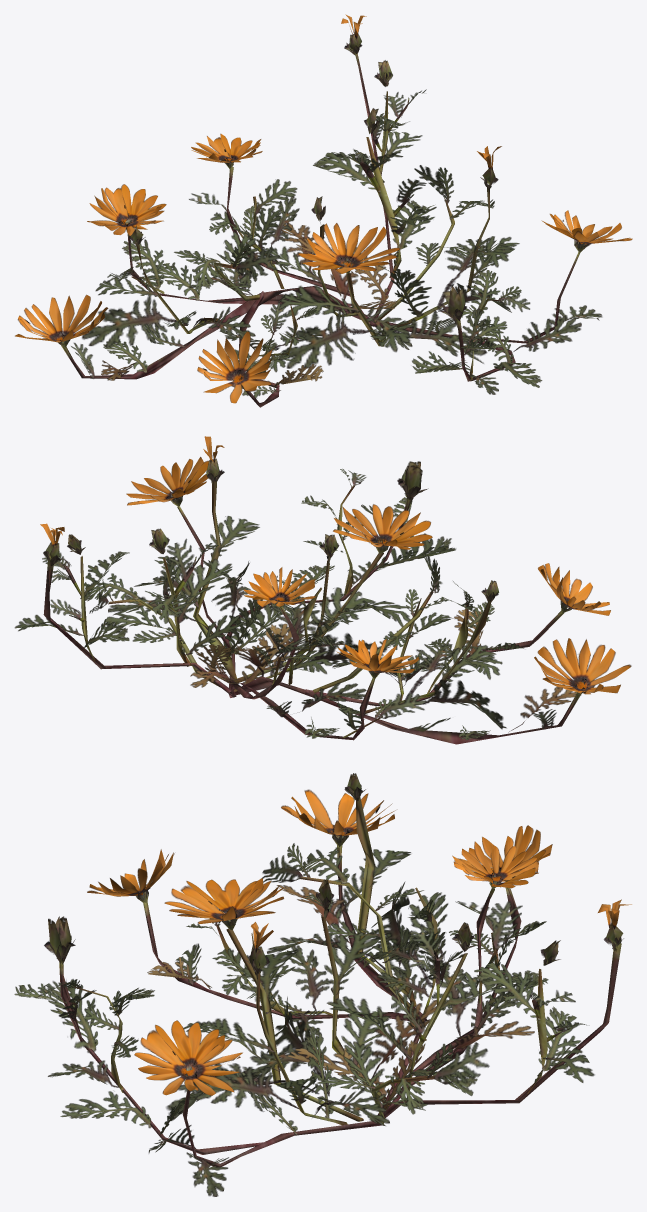
Rendered from flowers_orange.glb.
3 views of the same model, one above another, from view 1: azimuth 30°, elevation 25°; view 2: azimuth 150°, elevation 25°; view 3: azimuth 270°, elevation 25° (orthographic). The views are drawn at different scales.
Visible parts, largest first — view 1: flower_ursinia_a_LOD0; view 2: flower_ursinia_a_LOD0; view 3: flower_ursinia_a_LOD0.
Part boxes in pixels (x1,y1,x2,y2): flower_ursinia_a_LOD0: (15, 14, 632, 407); flower_ursinia_a_LOD0: (14, 436, 631, 744); flower_ursinia_a_LOD0: (14, 773, 631, 1196).
Size of the model in its own units: 0.424 by 0.1637 by 0.3428.
1 material, 1 textured.
